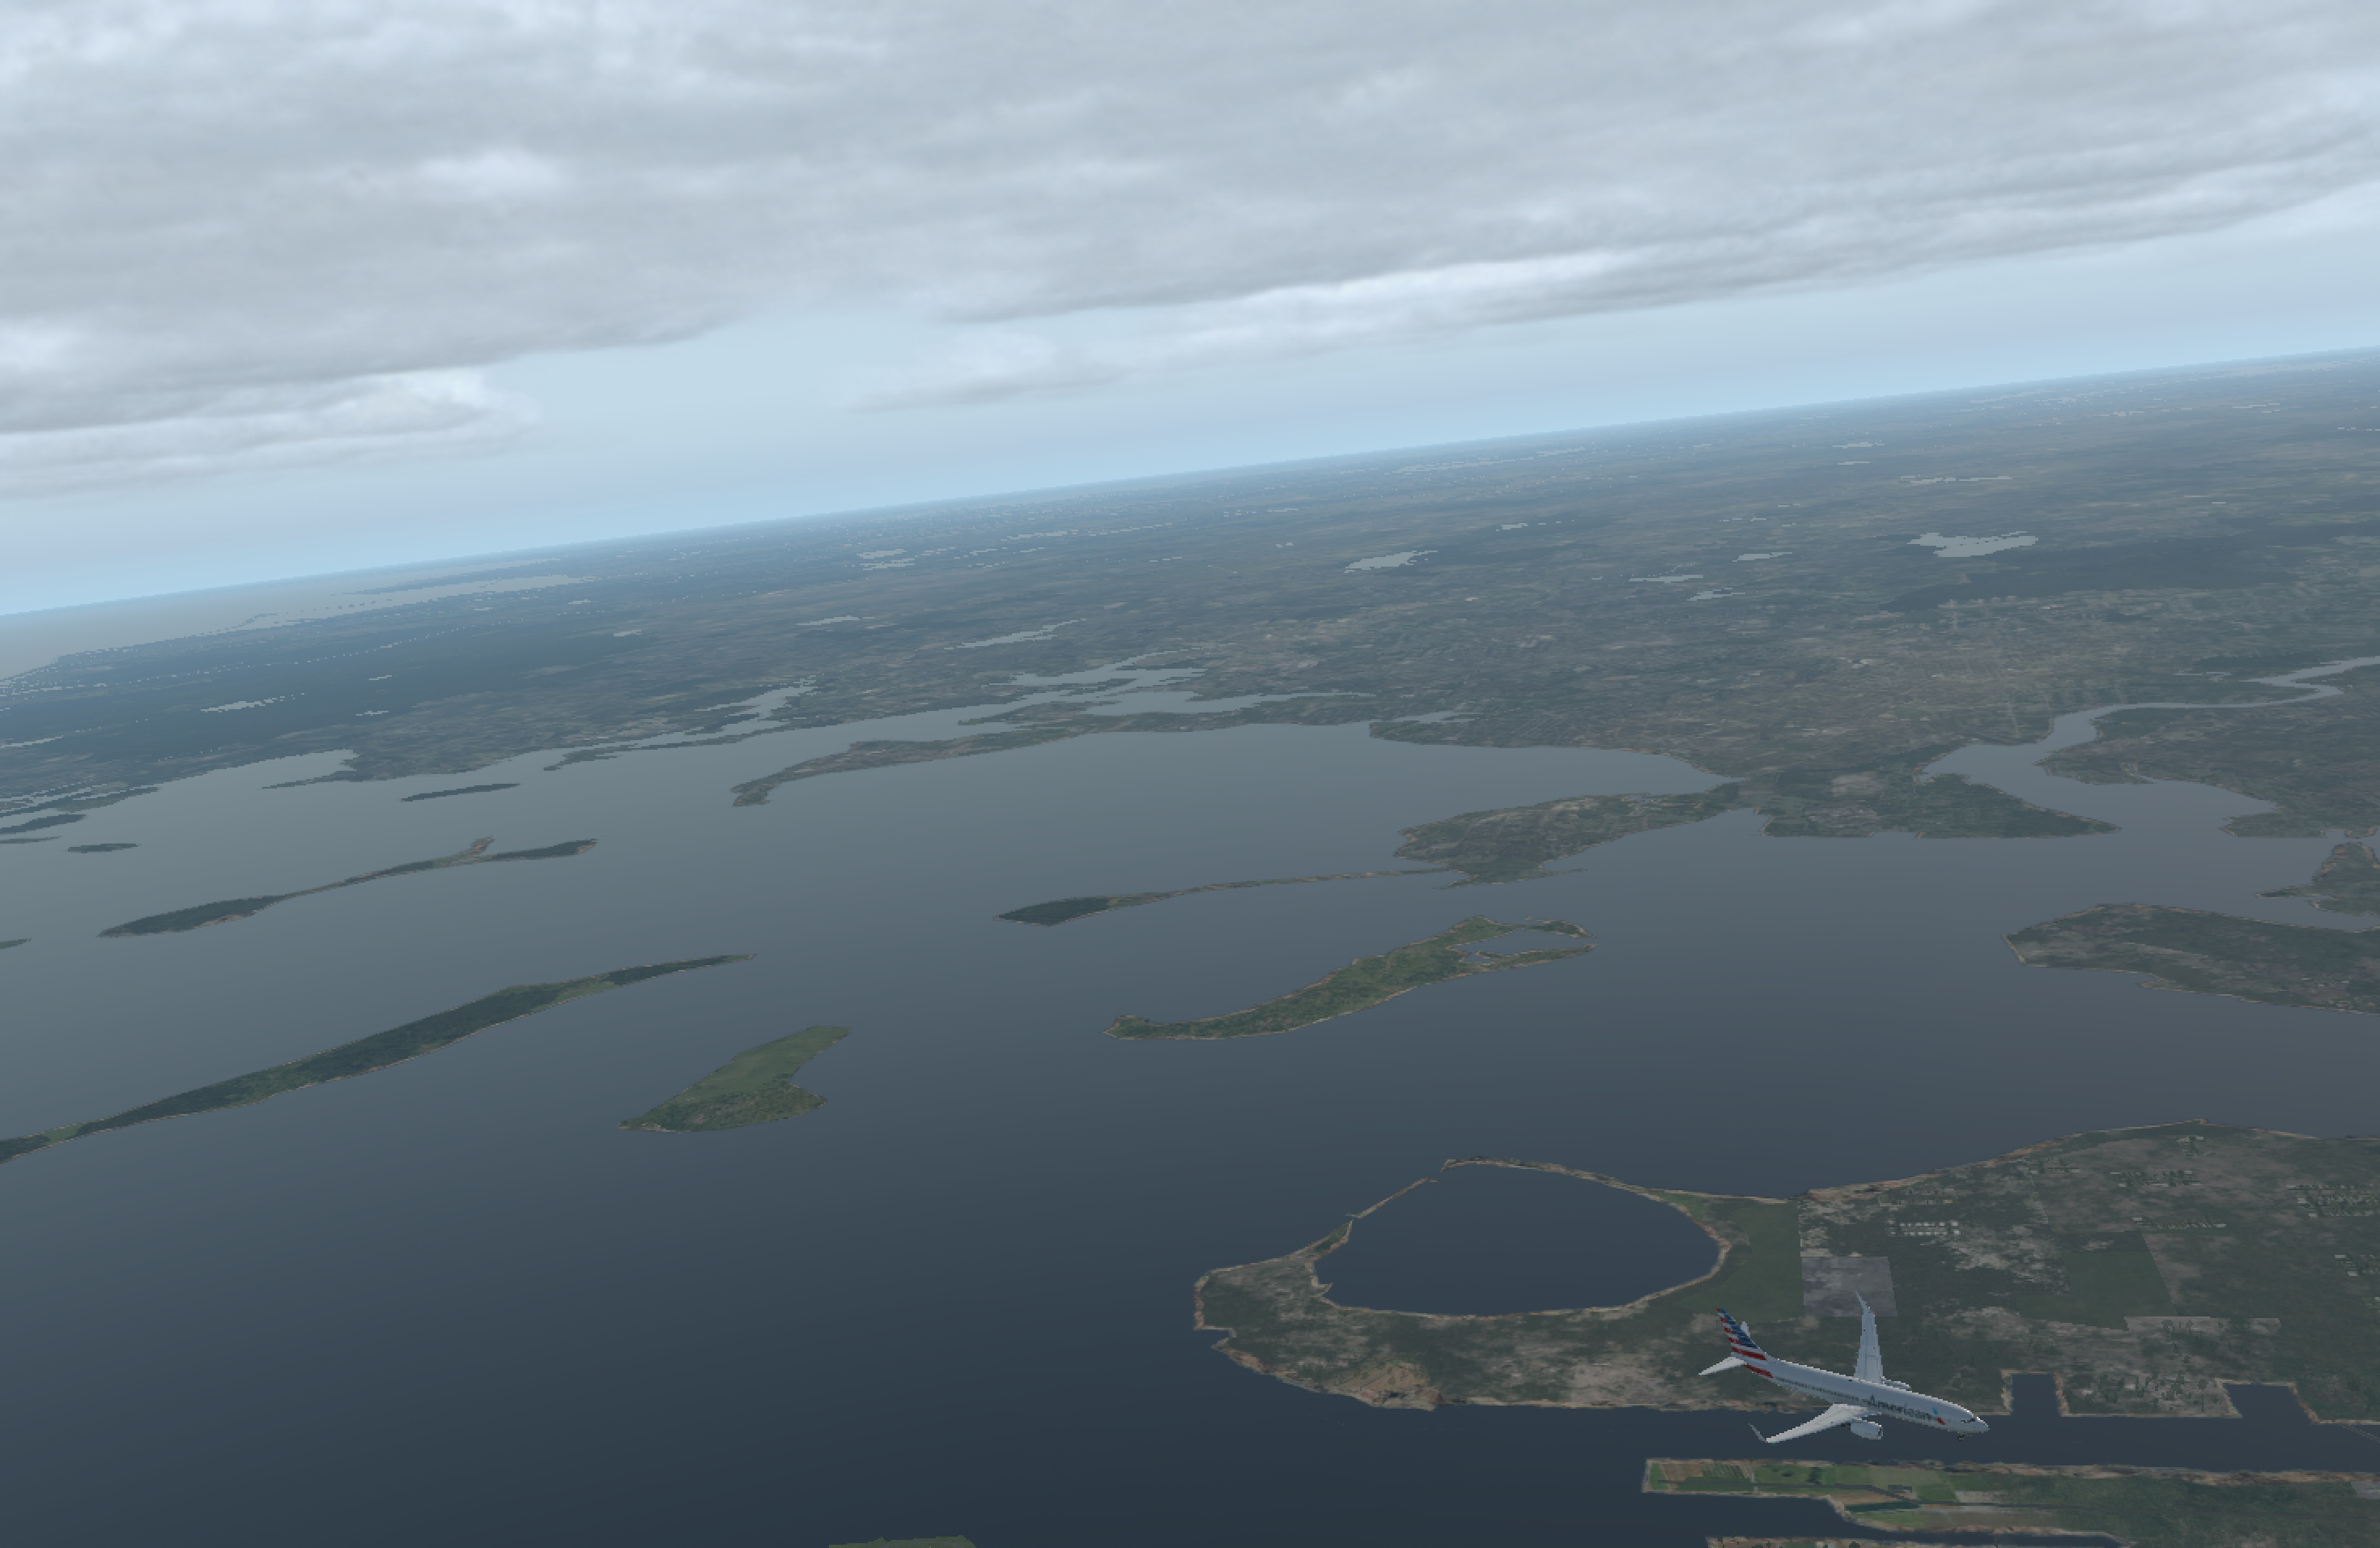aircraft: (1733, 1350, 1988, 1446)
